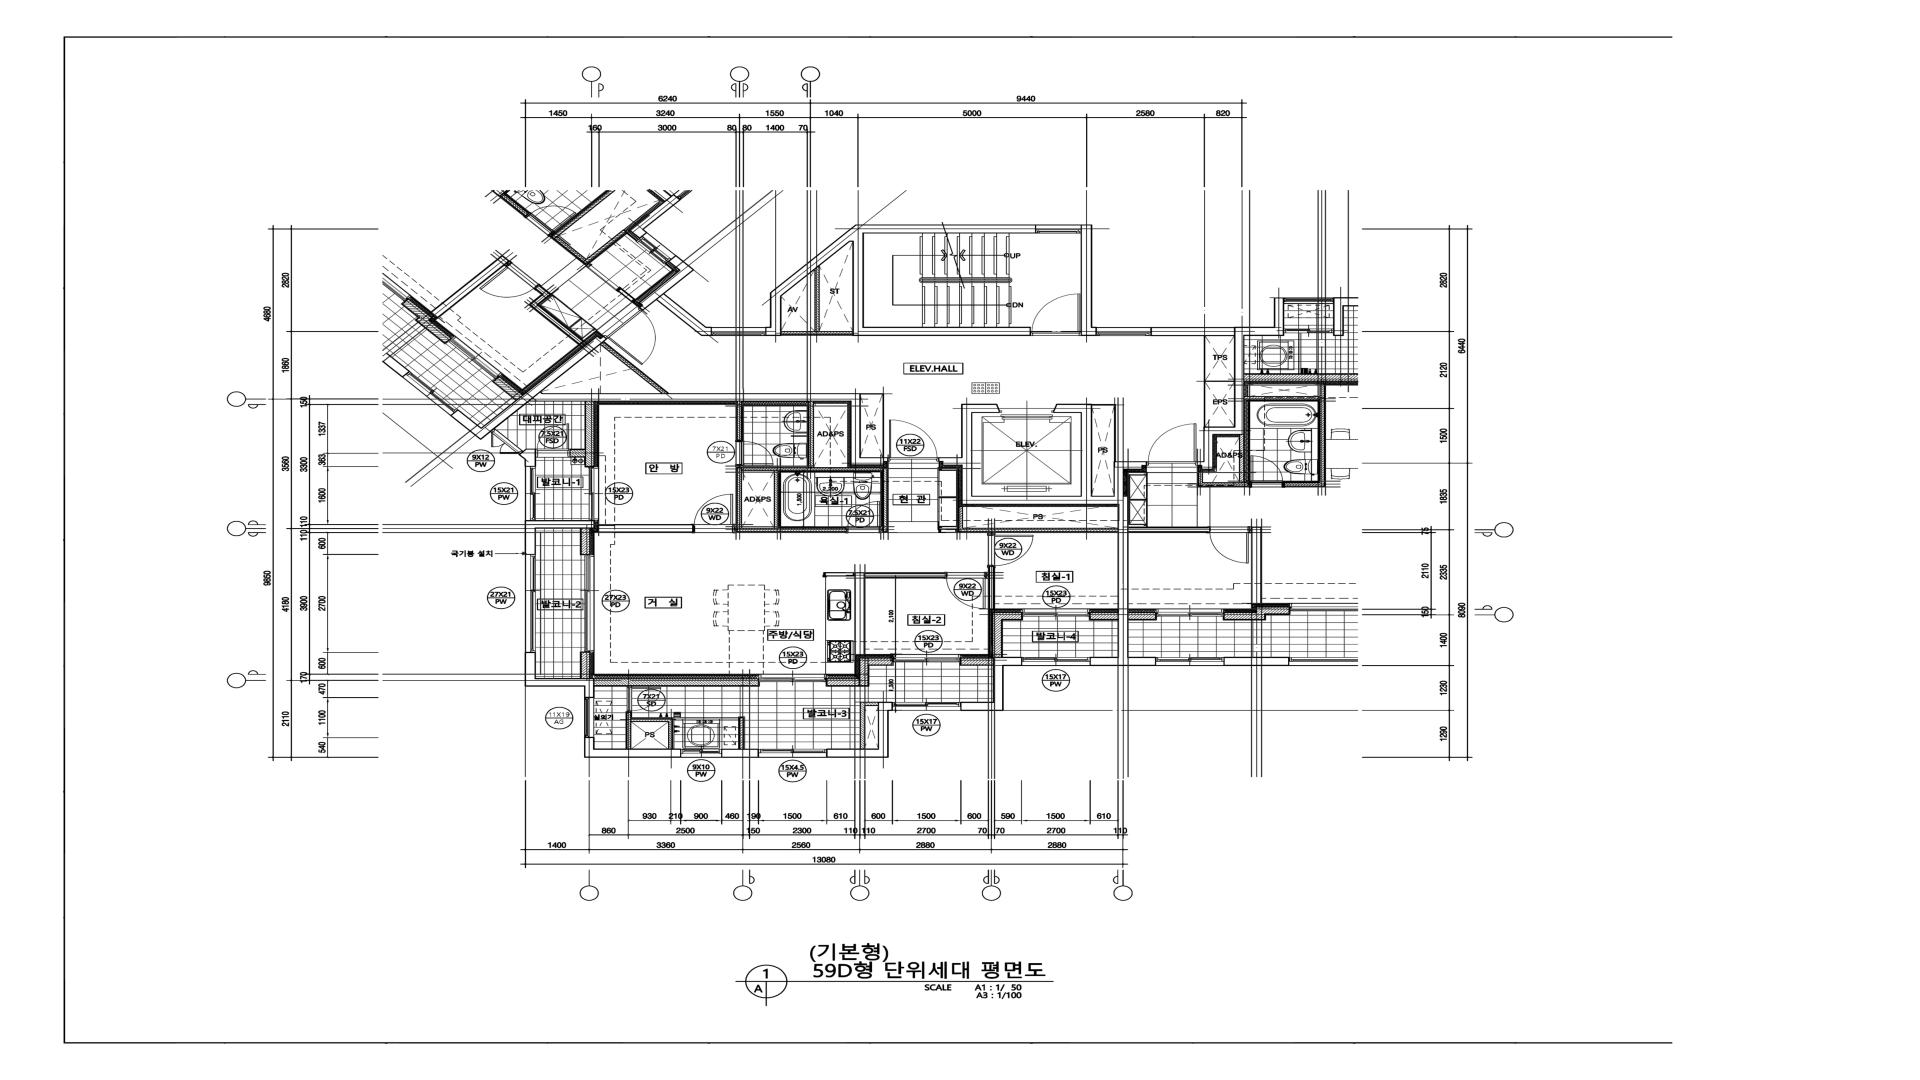door: (1031, 293, 1081, 336), (889, 419, 939, 462), (692, 493, 735, 533), (986, 534, 1034, 567), (945, 572, 986, 609), (535, 423, 570, 458), (845, 501, 881, 533), (735, 440, 774, 465), (626, 687, 661, 711)
wall: (939, 404, 1146, 666), (473, 338, 889, 464), (765, 224, 1036, 336), (1150, 327, 1244, 468), (825, 702, 893, 758), (600, 342, 670, 393), (960, 657, 1022, 711), (525, 651, 595, 698), (525, 520, 595, 555), (657, 294, 712, 336), (584, 737, 682, 758), (1081, 224, 1097, 336), (595, 678, 760, 687), (938, 527, 1117, 534), (599, 524, 692, 533), (855, 572, 865, 654), (584, 401, 593, 467), (735, 527, 845, 533), (736, 467, 882, 471), (865, 572, 945, 579), (881, 468, 889, 533), (986, 567, 996, 609), (736, 471, 742, 527), (782, 331, 852, 336), (808, 401, 814, 467), (815, 266, 820, 331), (993, 620, 1002, 657), (721, 749, 758, 758), (518, 448, 535, 467), (736, 401, 744, 440), (825, 679, 860, 687), (860, 658, 894, 666), (960, 658, 993, 666), (625, 711, 632, 749), (580, 529, 589, 555), (580, 651, 589, 678), (993, 612, 1023, 620), (860, 705, 865, 749), (774, 471, 778, 527), (1089, 612, 1117, 620), (860, 666, 869, 687), (738, 716, 744, 749), (632, 719, 673, 723), (570, 448, 585, 458), (823, 572, 855, 576), (1204, 336, 1205, 427), (669, 723, 673, 749), (882, 394, 884, 458), (959, 506, 963, 527), (1114, 405, 1116, 462), (860, 702, 878, 705), (1205, 381, 1234, 382), (1092, 404, 1116, 405), (861, 393, 884, 394)
window: (480, 429, 524, 462), (525, 555, 535, 651), (584, 555, 595, 651), (758, 749, 827, 758), (1022, 657, 1089, 666), (893, 702, 960, 711), (1023, 608, 1089, 617), (588, 467, 599, 521), (525, 467, 535, 520), (760, 674, 825, 682), (894, 654, 960, 662), (1097, 327, 1151, 336), (712, 327, 766, 336), (584, 698, 595, 737), (1036, 224, 1081, 233), (682, 749, 721, 758)
